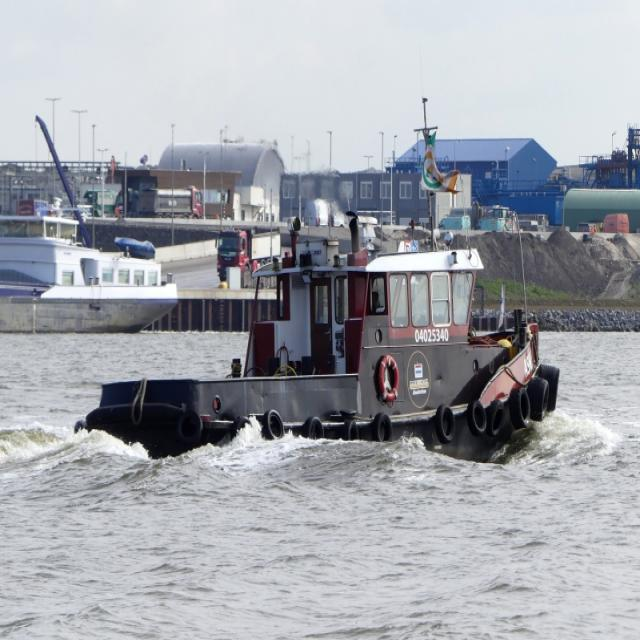tugboat: (74, 96, 563, 479)
